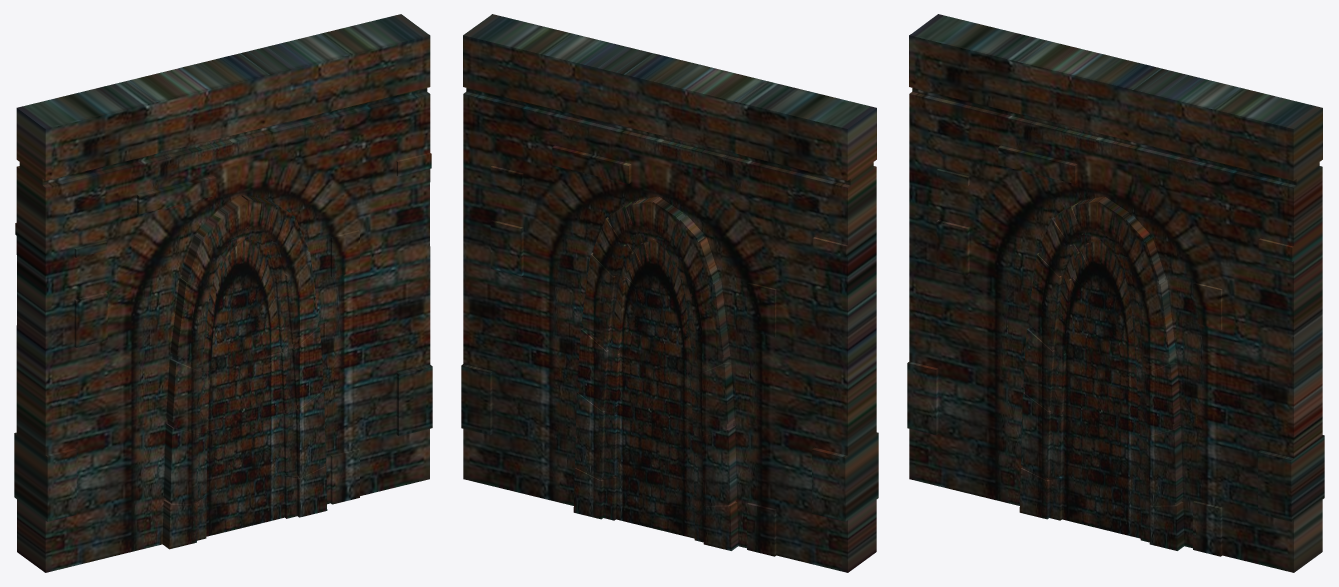
The model's file is Wall_1.fbx.
3 views of the same model, side by side, from view 1: azimuth 30°, elevation 25°; view 2: azimuth 150°, elevation 25°; view 3: azimuth 330°, elevation 25° (orthographic).
Visible parts, largest first — view 1: Wall_1; view 2: Wall_1; view 3: Wall_1.
Part boxes in pixels (x1=…): Wall_1: x1=14, y1=14, x2=432, y2=572; Wall_1: x1=461, y1=14, x2=878, y2=572; Wall_1: x1=907, y1=14, x2=1324, y2=572.
Bounding box in the file's own units: 73.14 × 80.69 × 13.89.
Materials: 1 (1 with a texture image).
